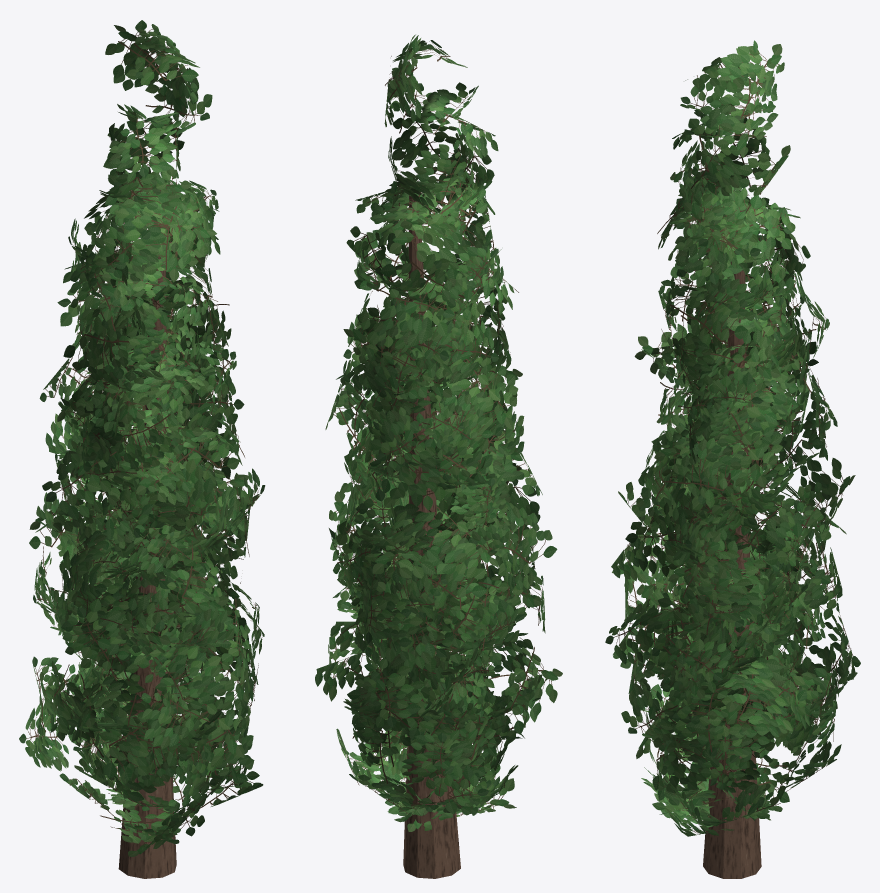
File: tree-columnar-large.gltf
The picture shows the model from 3 angles, left to right: view 1: azimuth 30°, elevation 25°; view 2: azimuth 150°, elevation 25°; view 3: azimuth 270°, elevation 25°; orthographic projection.
Parts seen in each view (by area): view 1: tree_columnar_large; view 2: tree_columnar_large; view 3: tree_columnar_large.
Part boxes in pixels (box(x1,y1,x2,y2)): tree_columnar_large: box(19, 20, 265, 878); tree_columnar_large: box(315, 34, 562, 878); tree_columnar_large: box(605, 40, 860, 878).
Size of the model in its own units: 2.79 by 10.14 by 2.9.
Materials: 3 (3 with a texture image).
